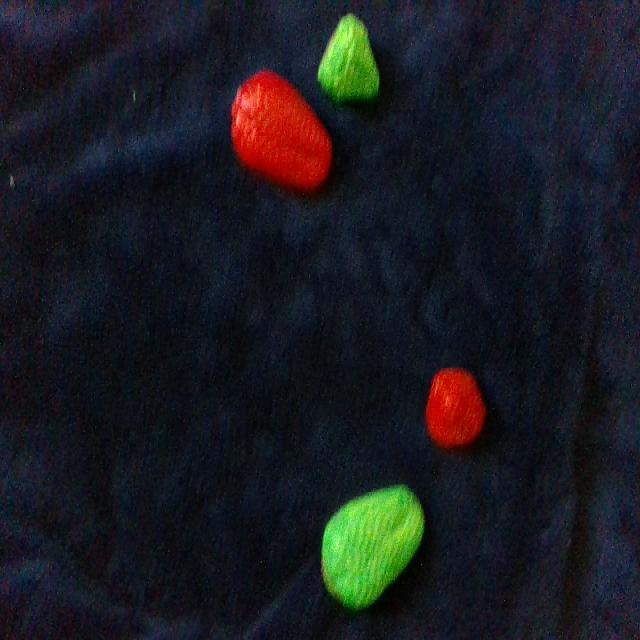chica_roja: (428, 371, 485, 447)
grande_roja: (232, 71, 331, 191)
verde: (322, 485, 424, 609), (318, 15, 379, 100)
